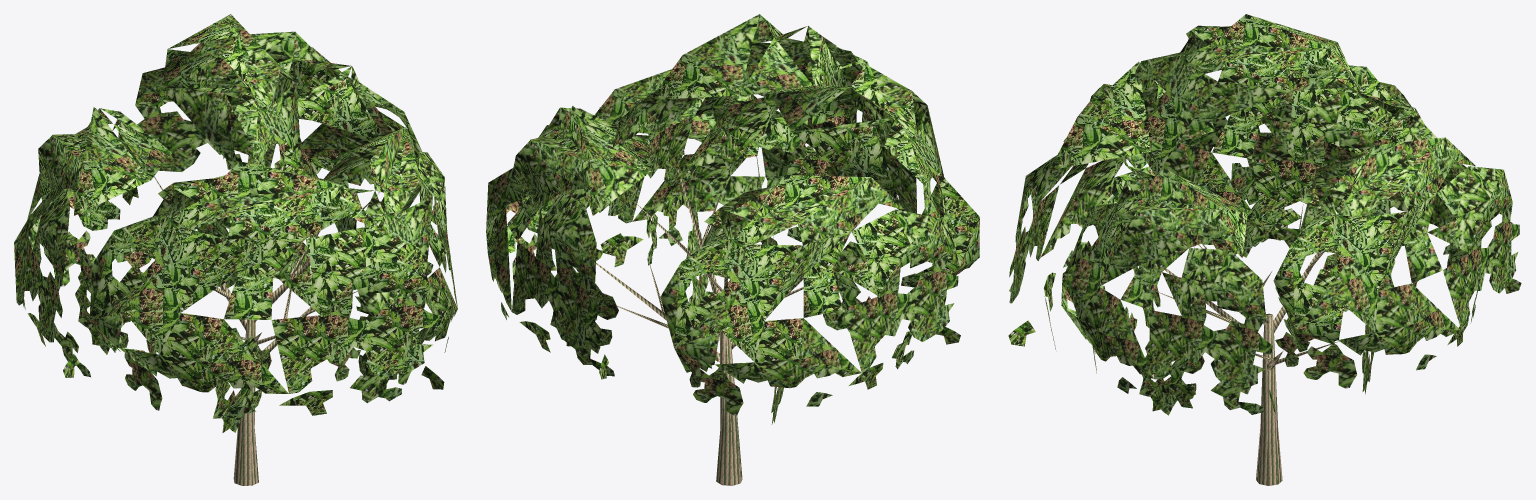
The model's file is oliveTree1.dae.
The picture shows the model from 3 angles, left to right: view 1: azimuth 30°, elevation 25°; view 2: azimuth 150°, elevation 25°; view 3: azimuth 270°, elevation 25°; orthographic projection.
Parts seen in each view (by area): view 1: Canopy-Third-Face-02_1_4, Canopy-Third-Face-02_1_3, Canopy-Third-Face-02_1_5, Canopy-Third-Face-02_1_1, Canopy-Third-Face-02_1_2, Trunk-SM4-01_1, Foliage-Face-01_1_4, Foliage-Face-01_1_3, Foliage-Face-01_1_1; view 2: Canopy-Third-Face-02_1_3, Canopy-Third-Face-02_1_1, Canopy-Third-Face-02_1_5, Canopy-Third-Face-02_1_4, Canopy-Third-Face-02_1_2, Trunk-SM4-01_1, Foliage-Face-01_1_5, Foliage-Face-01_1_4, Foliage-Face-01_1_2; view 3: Canopy-Third-Face-02_1_5, Canopy-Third-Face-02_1_1, Canopy-Third-Face-02_1_2, Canopy-Third-Face-02_1_4, Canopy-Third-Face-02_1_3, Trunk-SM4-01_1, Foliage-Face-01_1_2, Foliage-Face-01_1_1.
Boxes of the visible parts, left/top/right/bottom form: Canopy-Third-Face-02_1_4: left=89, top=161, right=444, bottom=420; Canopy-Third-Face-02_1_3: left=14, top=107, right=172, bottom=377; Canopy-Third-Face-02_1_5: left=122, top=31, right=422, bottom=212; Canopy-Third-Face-02_1_1: left=162, top=14, right=317, bottom=274; Canopy-Third-Face-02_1_2: left=324, top=127, right=457, bottom=384; Trunk-SM4-01_1: left=233, top=319, right=258, bottom=485; Foliage-Face-01_1_4: left=213, top=328, right=271, bottom=432; Foliage-Face-01_1_3: left=75, top=247, right=130, bottom=354; Foliage-Face-01_1_1: left=197, top=216, right=237, bottom=288; Canopy-Third-Face-02_1_3: left=660, top=175, right=960, bottom=415; Canopy-Third-Face-02_1_1: left=600, top=14, right=864, bottom=265; Canopy-Third-Face-02_1_5: left=486, top=106, right=651, bottom=379; Canopy-Third-Face-02_1_4: left=773, top=46, right=979, bottom=305; Canopy-Third-Face-02_1_2: left=551, top=69, right=806, bottom=270; Trunk-SM4-01_1: left=716, top=331, right=742, bottom=485; Foliage-Face-01_1_5: left=549, top=250, right=618, bottom=346; Foliage-Face-01_1_4: left=823, top=241, right=870, bottom=331; Foliage-Face-01_1_2: left=686, top=202, right=708, bottom=306; Canopy-Third-Face-02_1_5: left=1273, top=137, right=1521, bottom=388; Canopy-Third-Face-02_1_1: left=1121, top=14, right=1399, bottom=247; Canopy-Third-Face-02_1_2: left=1061, top=168, right=1275, bottom=414; Canopy-Third-Face-02_1_4: left=1008, top=61, right=1231, bottom=349; Canopy-Third-Face-02_1_3: left=1243, top=65, right=1491, bottom=286; Trunk-SM4-01_1: left=1256, top=313, right=1282, bottom=485; Foliage-Face-01_1_2: left=1139, top=326, right=1204, bottom=415; Foliage-Face-01_1_1: left=1231, top=163, right=1275, bottom=257.
Size of the model in its own units: 110 by 119 by 117.
Materials: 2 (2 with a texture image).
